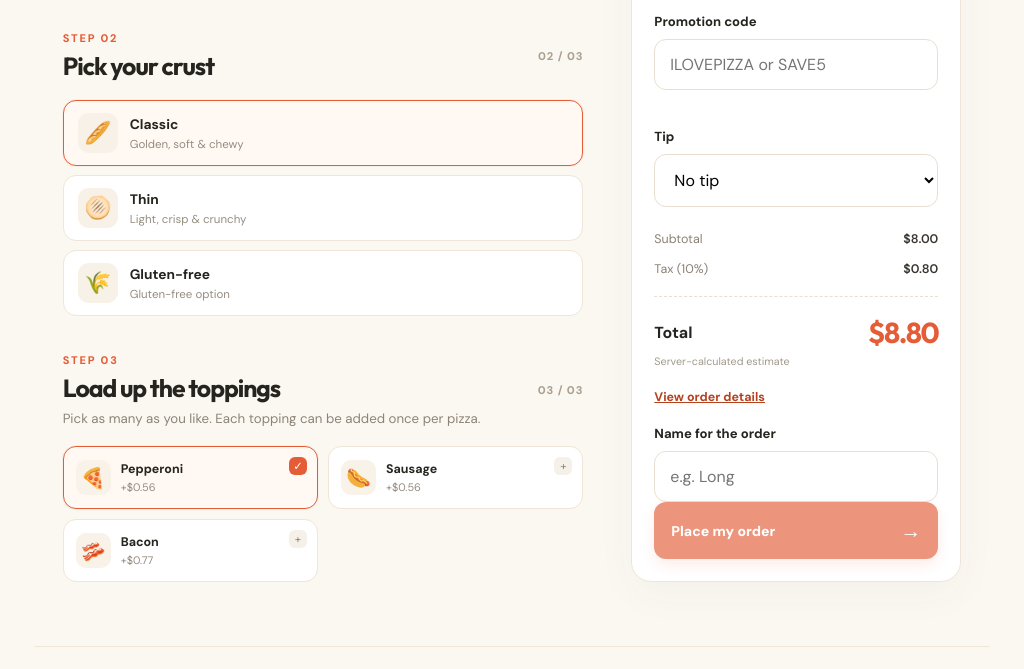
Scenario: UI-015: pressing Place order again after an unknown outcome cannot create a second order › uses a new key if the customer changed the order after the failure
(page scrolled)
Expected: the text with test id "order-total" reads "$8.80", [868,314,938,350]
Type "Sam" into the field labelled "Name for the order" at (796, 477), box [654,451,938,502]
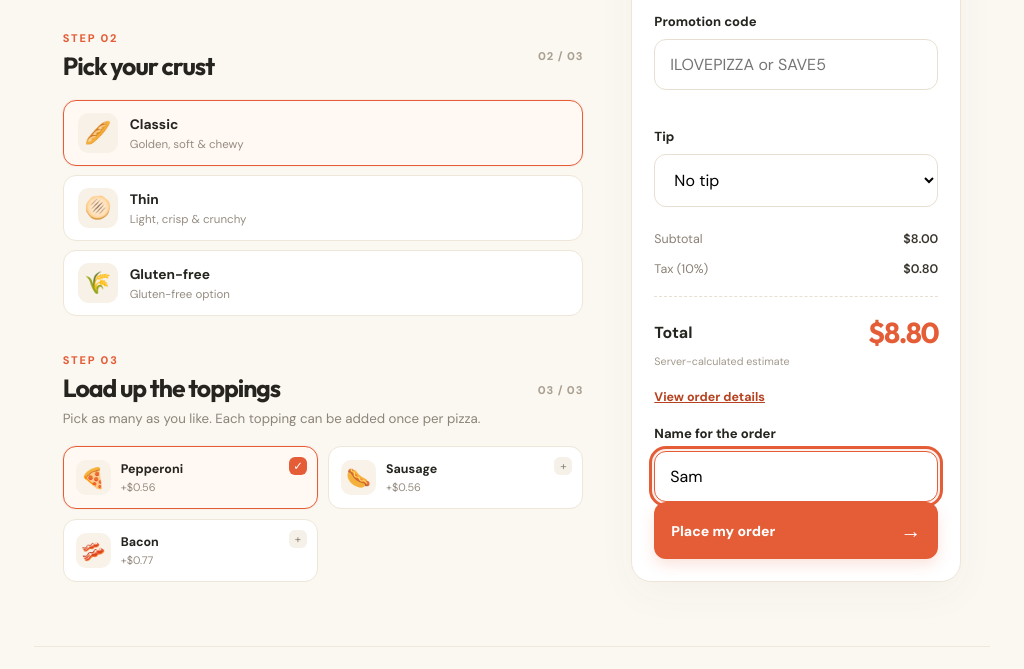
Click the button "Place my order →" at (723, 531), box [654,502,938,559]
(page scrolled)
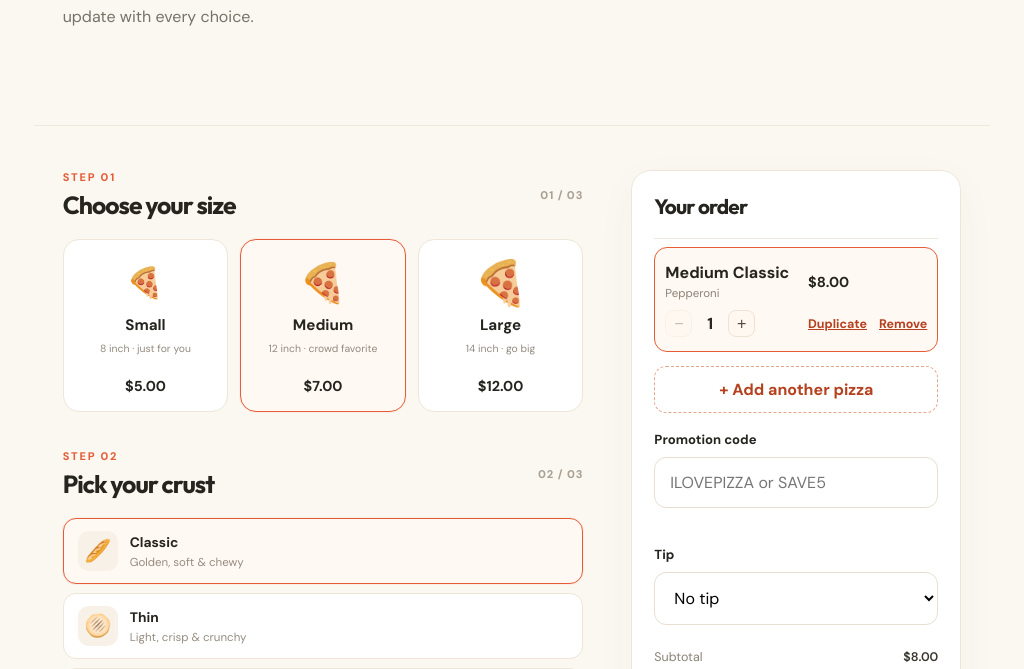
Click the radio button labelled "🍕 Large 14 inch · go big $12.00" at (501, 326), box [418,239,583,412]
(page scrolled)
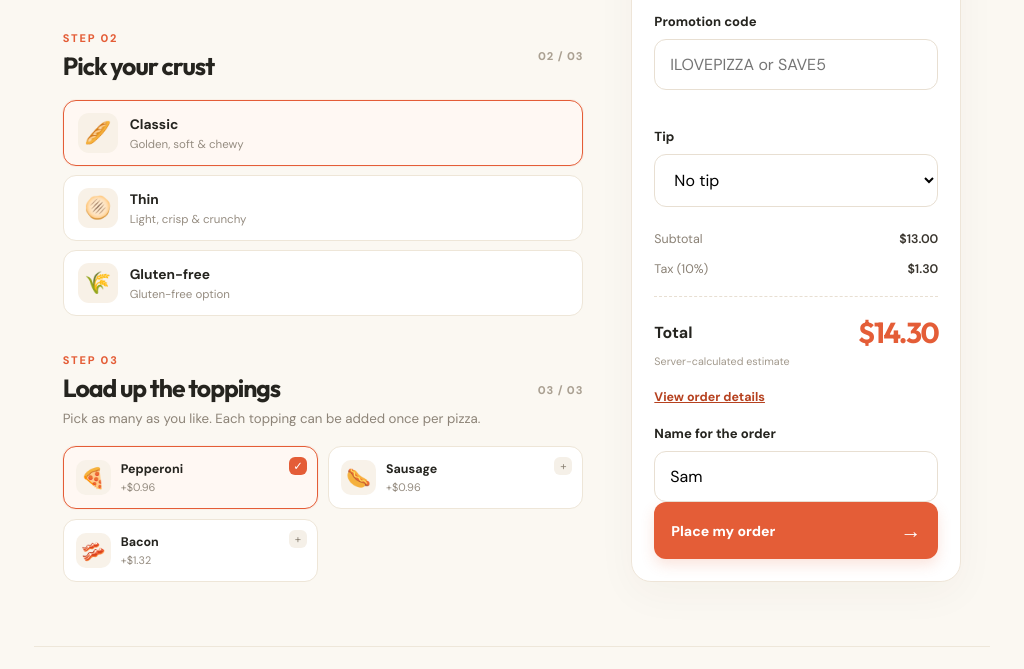
Result: the text with test id "order-total" reads "$14.30" at [858,314,938,350]
Click the button "Place my order →" at (723, 531), box [654,502,938,559]
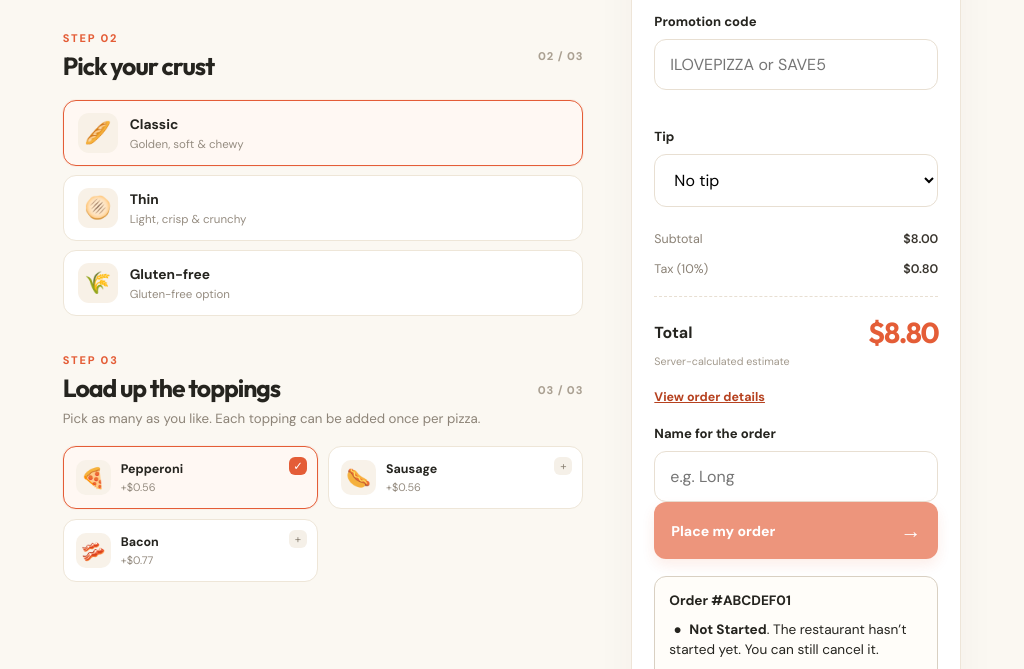
Result: the text "Order #ABCDEF01" is shown at [669,591,791,612]
